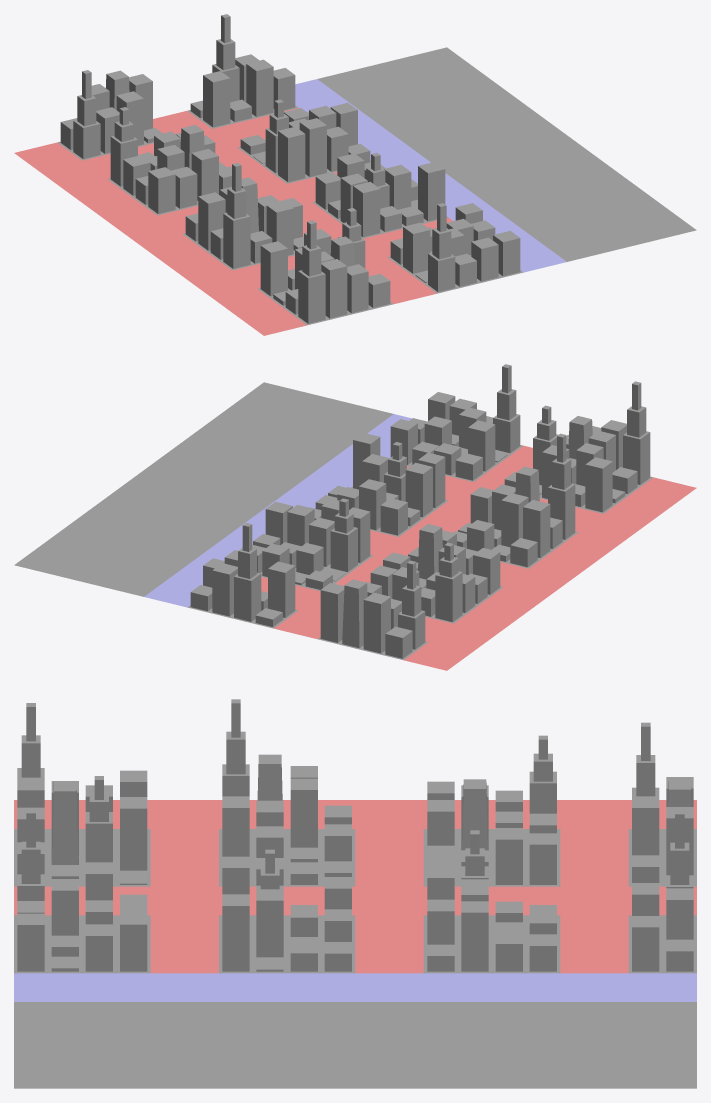
Rendered from City.fbx.
3 views of the same model, one above another, from view 1: azimuth 30°, elevation 25°; view 2: azimuth 150°, elevation 25°; view 3: azimuth 270°, elevation 25° (orthographic). The views are drawn at different scales.
Parts seen in each view (by area): view 1: pPlane1; view 2: pPlane1; view 3: pPlane1.
Part boxes in pixels (<box>): pPlane1: <box>14,14,696,335</box>; pPlane1: <box>14,364,696,670</box>; pPlane1: <box>14,699,696,1088</box>.
Size of the model in its own units: 450 by 97.91 by 450.
